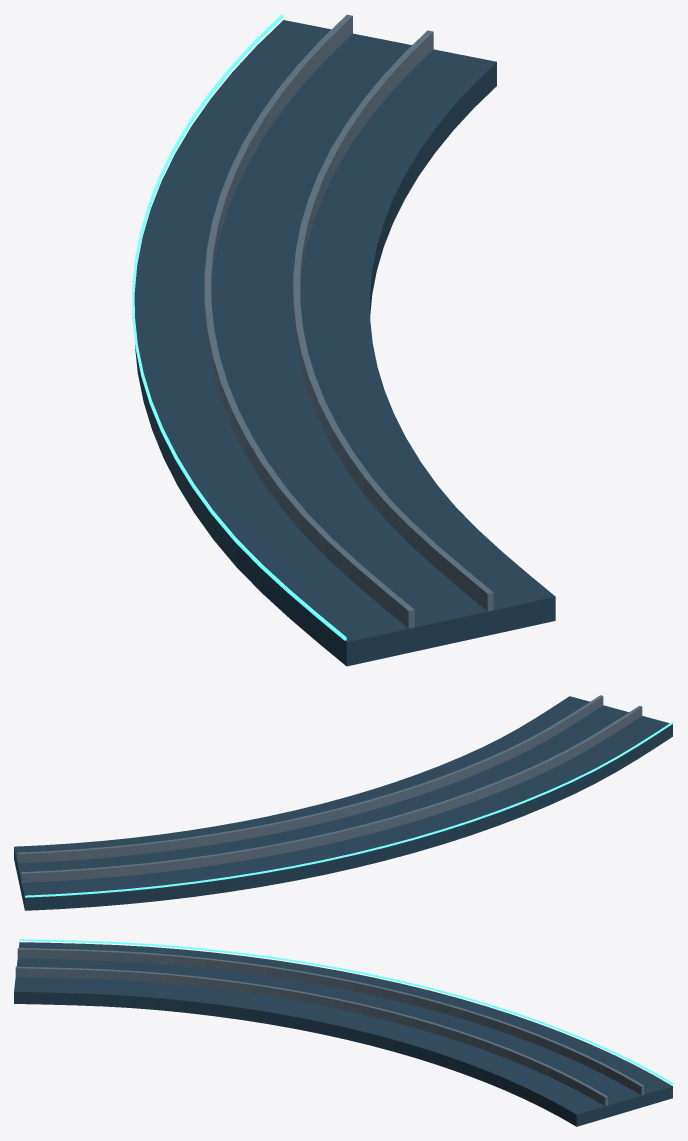
The model's file is track_chunk_19.glb.
3 views of the same model, one above another, from view 1: azimuth 30°, elevation 25°; view 2: azimuth 150°, elevation 25°; view 3: azimuth 270°, elevation 25° (orthographic). The views are drawn at different scales.
Parts seen in each view (by area): view 1: deck_19, rail_left_19, rail_right_19, edge_light_19; view 2: deck_19, rail_left_19, rail_right_19, edge_light_19; view 3: deck_19, rail_left_19, rail_right_19, edge_light_19.
Part boxes in pixels (bbox=[...]): deck_19: bbox=[134, 20, 555, 666]; rail_left_19: bbox=[204, 14, 414, 628]; rail_right_19: bbox=[293, 30, 493, 611]; edge_light_19: bbox=[132, 14, 346, 640]; deck_19: bbox=[14, 696, 672, 910]; rail_left_19: bbox=[21, 705, 642, 882]; rail_right_19: bbox=[17, 695, 603, 863]; edge_light_19: bbox=[25, 721, 673, 897]; deck_19: bbox=[14, 942, 672, 1126]; rail_left_19: bbox=[17, 948, 644, 1095]; rail_right_19: bbox=[15, 966, 607, 1106]; edge_light_19: bbox=[19, 939, 673, 1084].
Size of the model in its own units: 13.23 by 0.7464 by 21.31.
